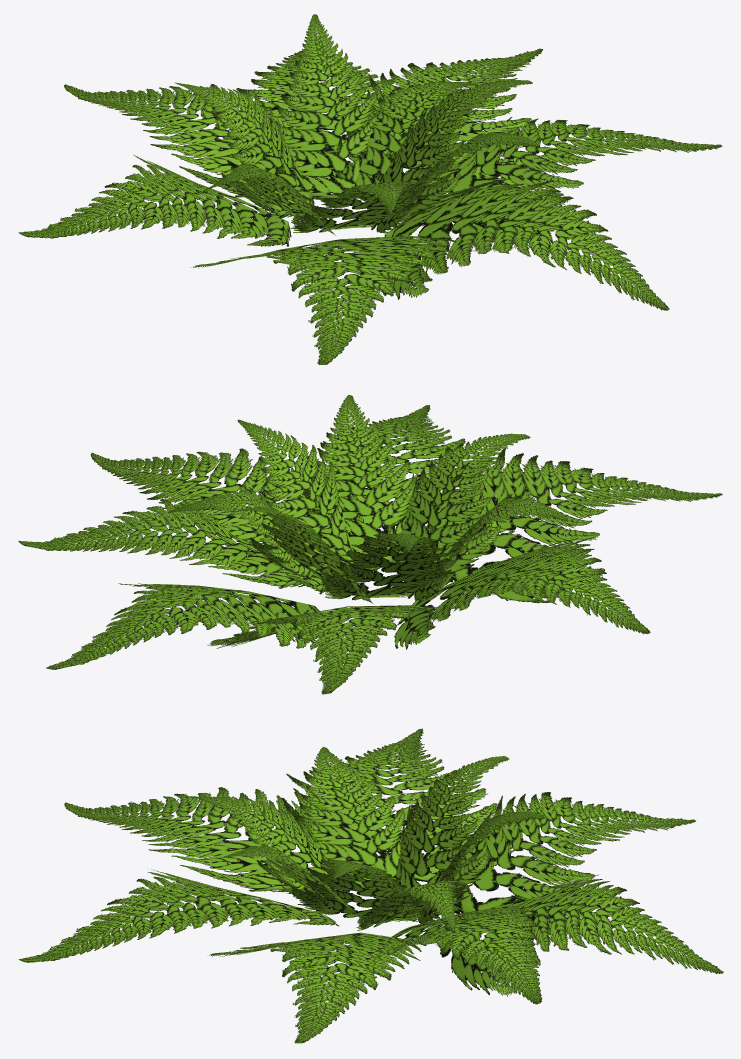
File: LowestBush8Shape.dae
3 views of the same model, one above another, from view 1: azimuth 30°, elevation 25°; view 2: azimuth 150°, elevation 25°; view 3: azimuth 270°, elevation 25° (orthographic). The views are drawn at different scales.
Visible parts, largest first — view 1: LowestBush8; view 2: LowestBush8; view 3: LowestBush8.
Boxes of the visible parts, x1,y1,x2,y2 form: LowestBush8: (18,14,722,364); LowestBush8: (18,395,722,694); LowestBush8: (19,728,723,1043).
Bounding box in the file's own units: 15.89 × 3.25 × 16.01.
